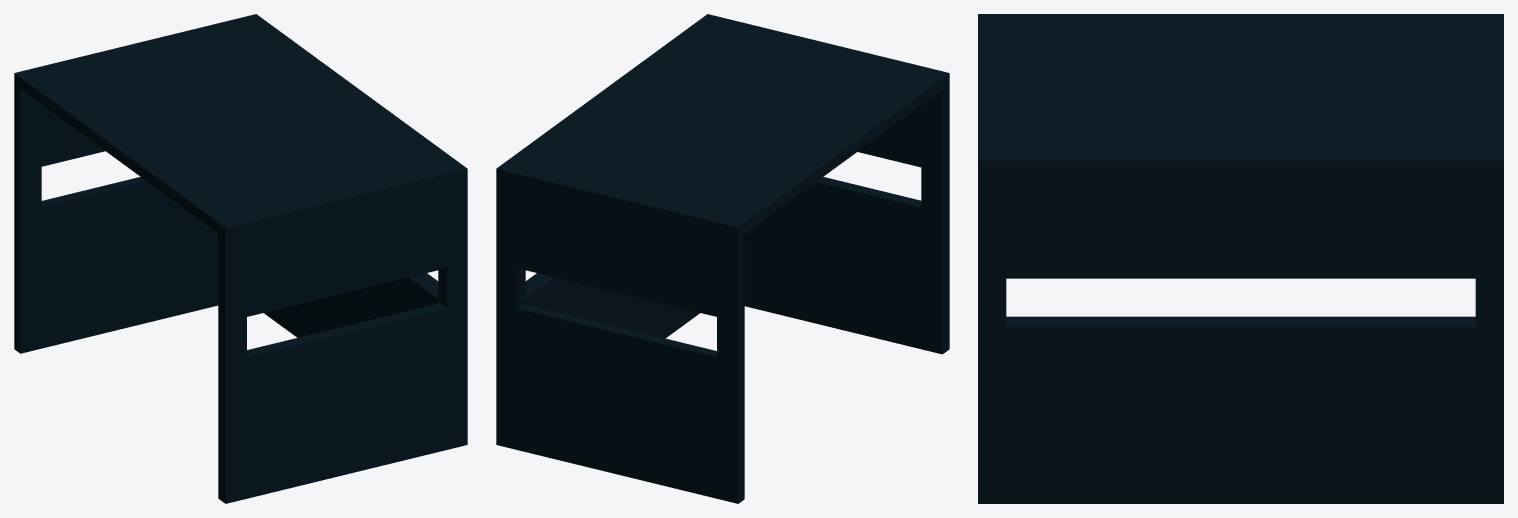
The model's file is shelter.fbx.
The picture shows the model from 3 angles, left to right: view 1: azimuth 30°, elevation 25°; view 2: azimuth 150°, elevation 25°; view 3: azimuth 270°, elevation 25°; orthographic projection. The views are drawn at different scales.
Parts seen in each view (by area): view 1: Cube; view 2: Cube; view 3: Cube.
Part boxes in pixels (box(x1,y1,x2,y2)): Cube: box(14, 14, 467, 503); Cube: box(496, 14, 949, 503); Cube: box(978, 14, 1503, 503).
Size of the model in its own units: 337 by 367 by 510.
